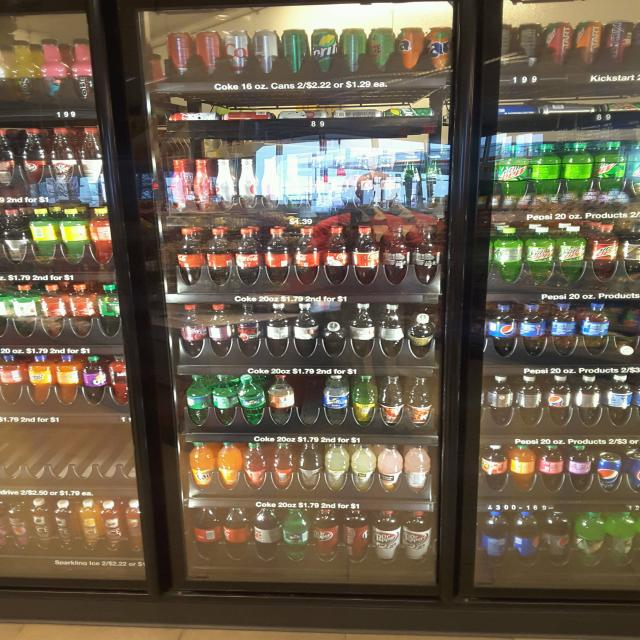empty: (1, 425, 133, 493), (290, 373, 321, 429)
